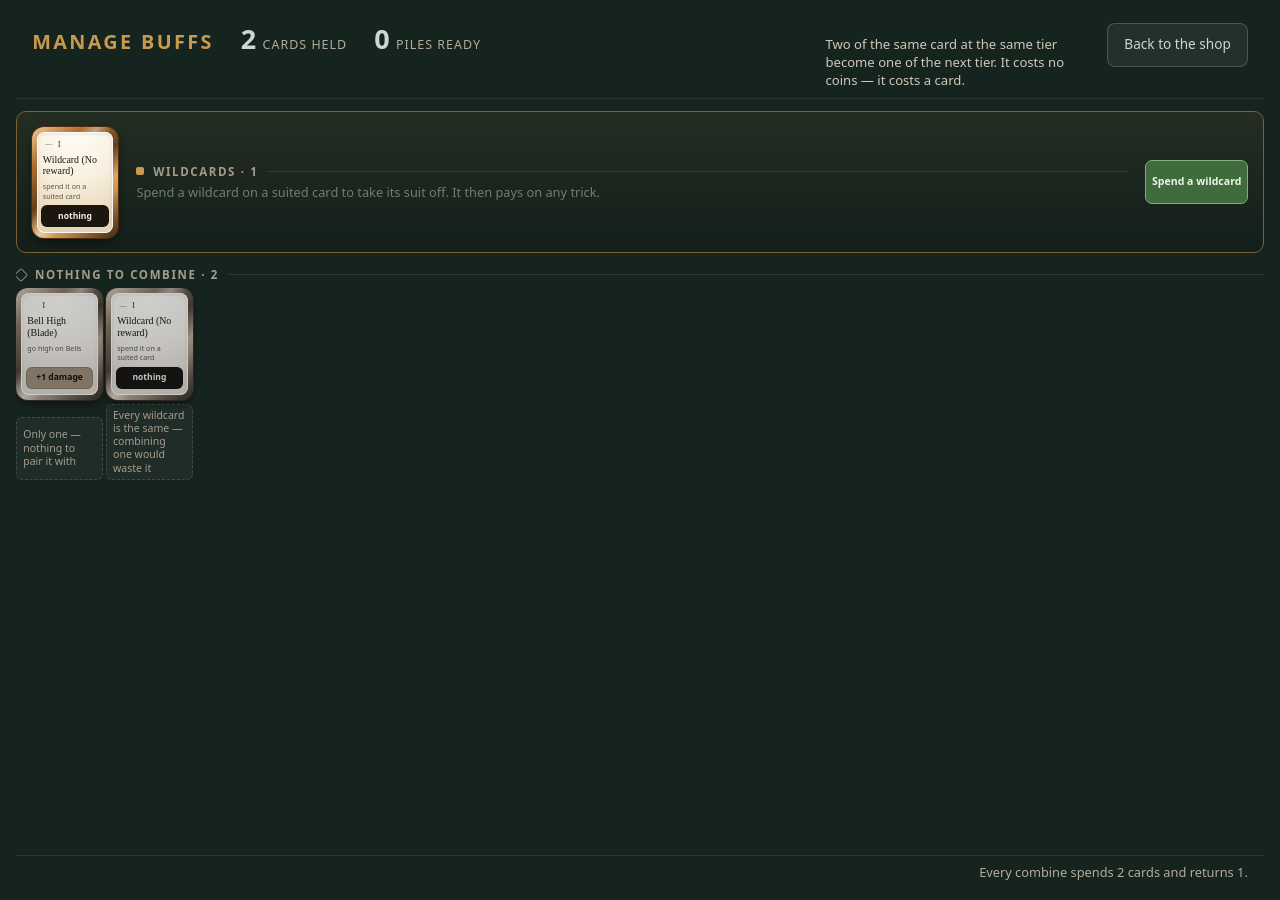
Test case: the wildcard band (DLR-162) › puts the confirmation on the target tile, naming what is destroyed and what is made
The image size is (1280, 900).
Click the button "Spend a wildcard" at (1197, 182), box [1145, 160, 1248, 204]
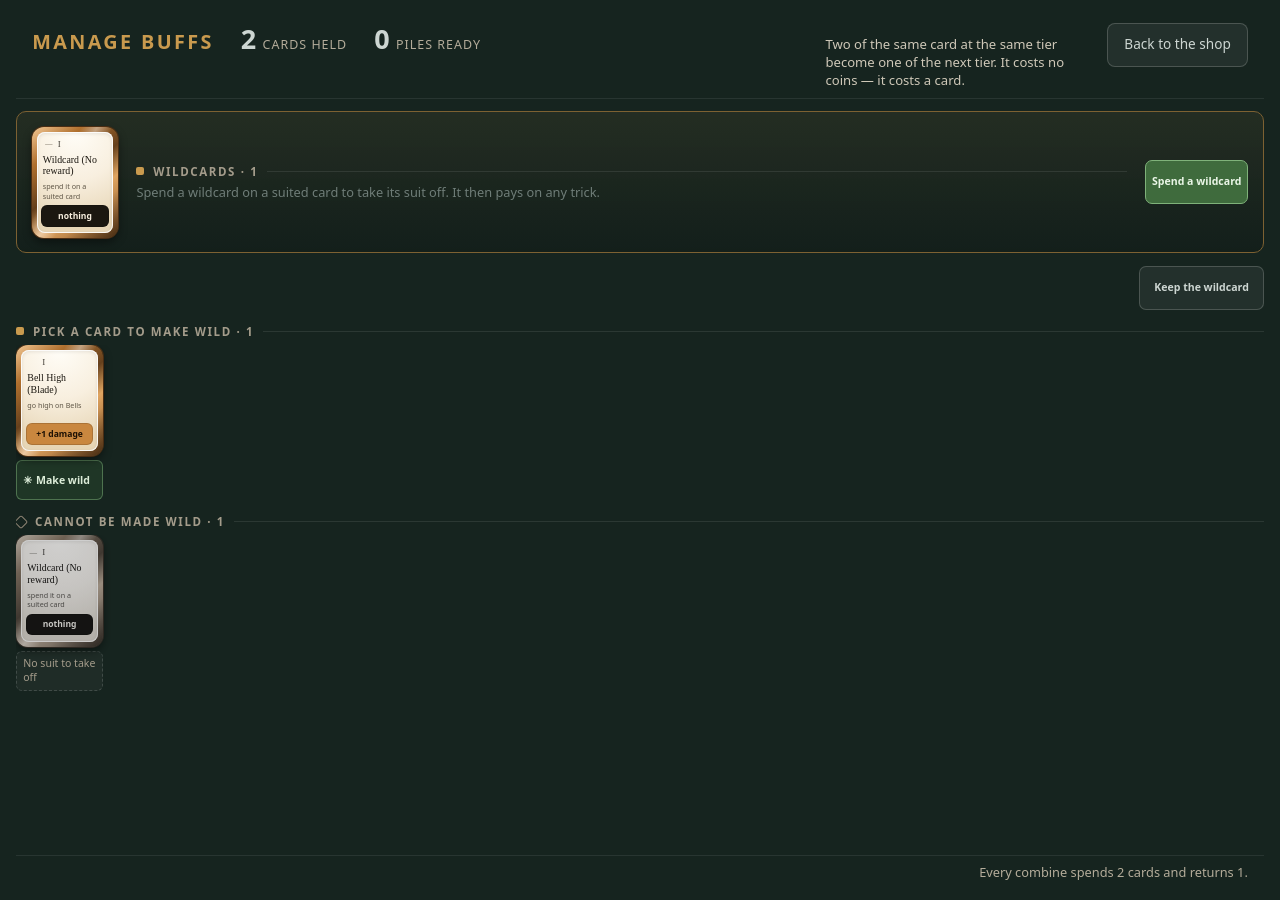
Click the button "I Bell High (Blade) go high on Bells +1 damage ✳ Make wild" at (56, 422), box [16, 345, 96, 500]
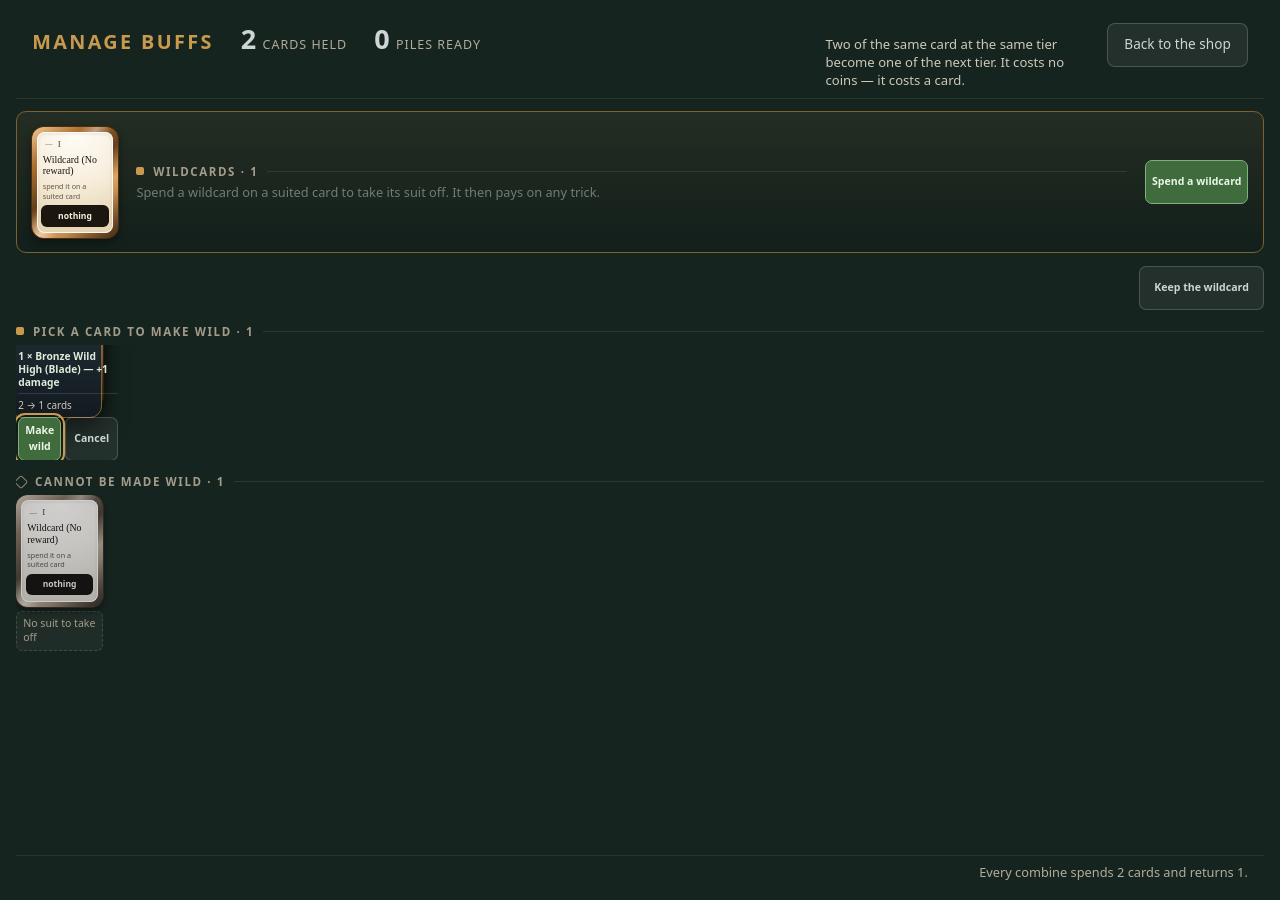
Expected: the button "Make wild" is shown, [18, 417, 61, 460]
Expected: the text "1 × Bronze Wild High (Blade) — +1 damage" is shown, [18, 350, 118, 389]
